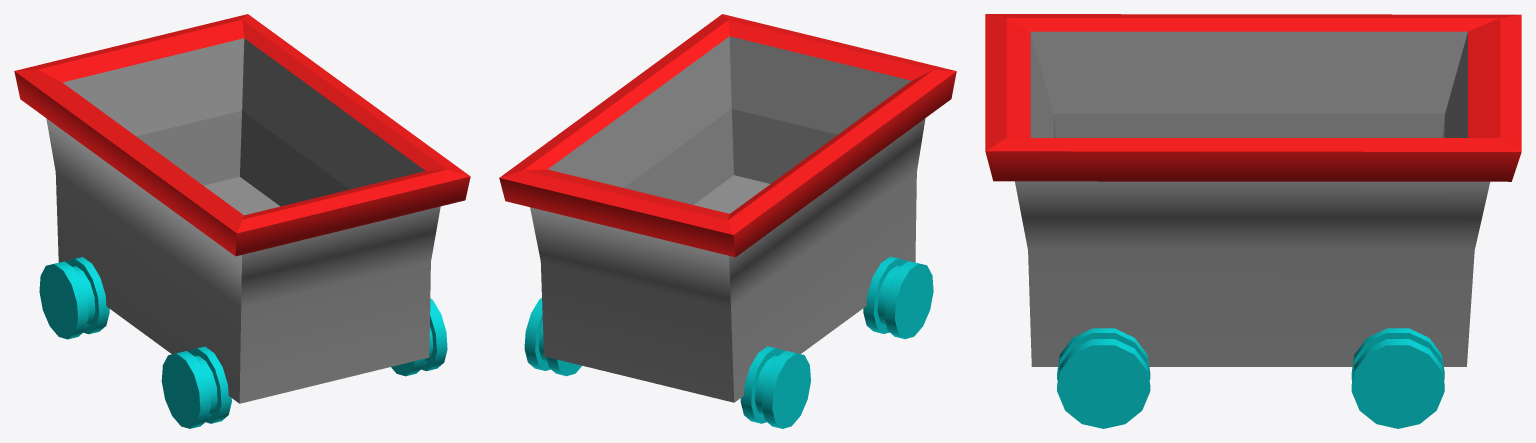
The model's file is kärri.fbx.
3 renders of one model, left to right at view 1: azimuth 30°, elevation 25°; view 2: azimuth 150°, elevation 25°; view 3: azimuth 270°, elevation 25°, orthographic. The views are drawn at different scales.
Parts seen in each view (by area): view 1: Box001; view 2: Box001; view 3: Box001.
Boxes of the visible parts, x1,y1,x2,y2 form: Box001: (14, 14, 470, 428); Box001: (499, 14, 956, 428); Box001: (985, 14, 1521, 428).
Size of the model in its own units: 23.54 by 21.03 by 36.73.
